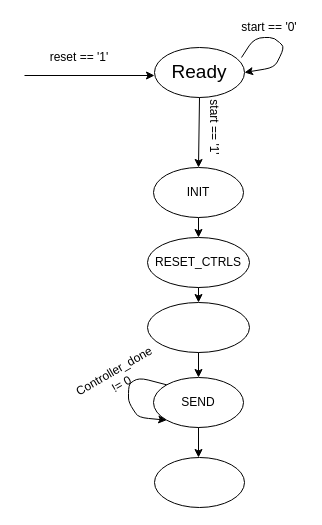
Some shapes in this 322 by 525 pixel diagram are drawn without their labels. The centre of each missing label's shape, as x and y in pixels:
"FINISHED" belongs at [199,482].
"START_CTRLS" belongs at [198,327].
